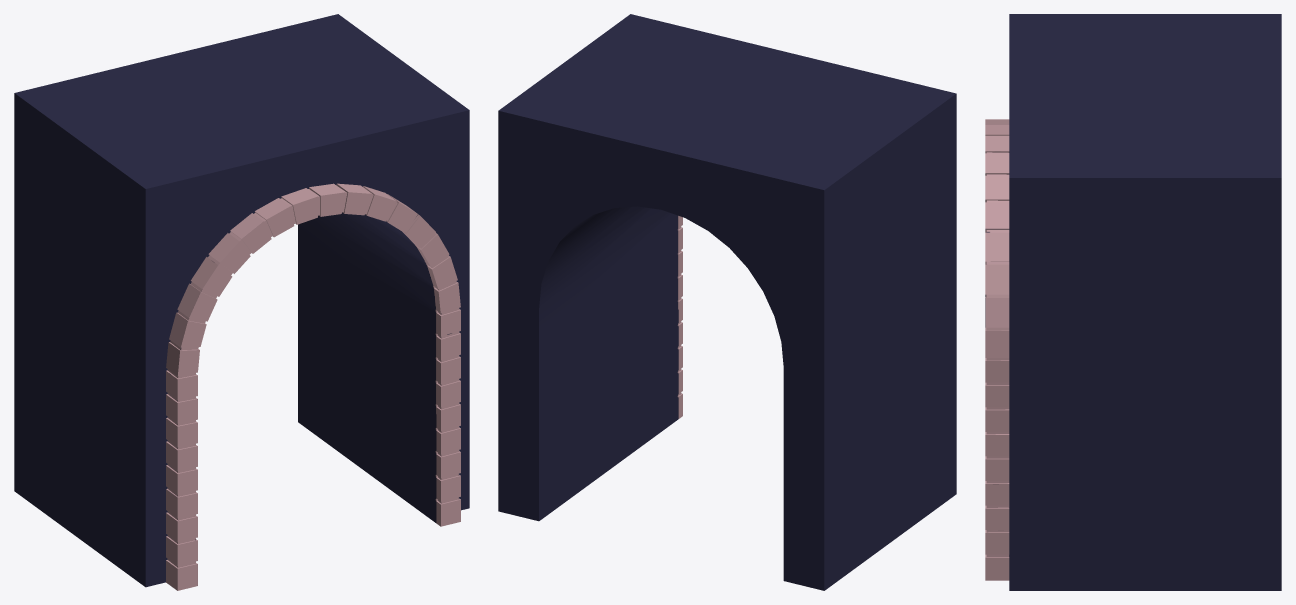
File: arbor.obj
3 renders of one model, left to right at view 1: azimuth 30°, elevation 25°; view 2: azimuth 150°, elevation 25°; view 3: azimuth 270°, elevation 25°, orthographic. The views are drawn at different scales.
Parts seen in each view (by area): view 1: Cube.001; view 2: Cube.001; view 3: Cube.001.
Boxes of the visible parts, x1,y1,x2,y2 form: Cube.001: (14, 14, 469, 590); Cube.001: (498, 14, 956, 590); Cube.001: (985, 14, 1281, 590).
Bounding box in the file's own units: 5.96 × 7 × 4.56.
Materials: 1 (1 with a texture image).
